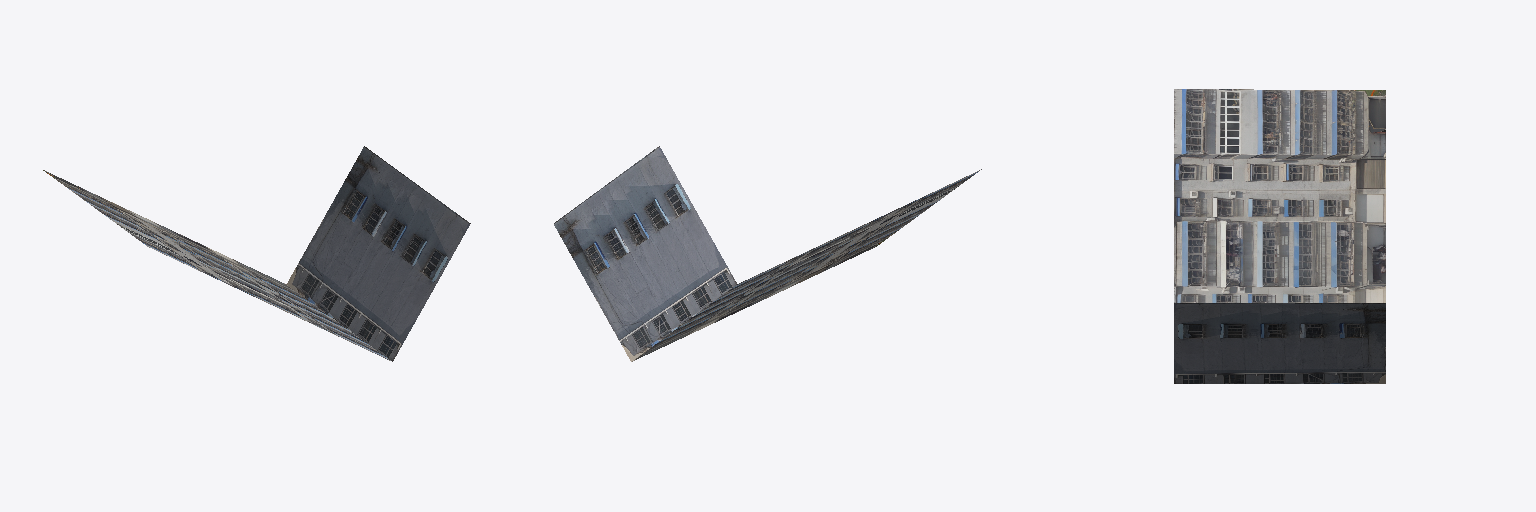
The picture shows the model from 3 angles: view 1: azimuth 30°, elevation 25°; view 2: azimuth 150°, elevation 25°; view 3: azimuth 270°, elevation 25°; orthographic projection.
Parts seen in each view (by area): view 1: grp5, grp1; view 2: grp5, grp1; view 3: grp1, grp5.
Boxes of the visible parts, x1=… form: grp5: x1=287, y1=146, x2=470, y2=361; grp1: x1=43, y1=170, x2=390, y2=360; grp5: x1=554, y1=146, x2=736, y2=361; grp1: x1=632, y1=169, x2=981, y2=361; grp1: x1=1174, y1=89, x2=1385, y2=302; grp5: x1=1174, y1=303, x2=1385, y2=383.
Size of the model in its own units: 36.1 by 18.71 by 20.57.
Materials: 2 (2 with a texture image).